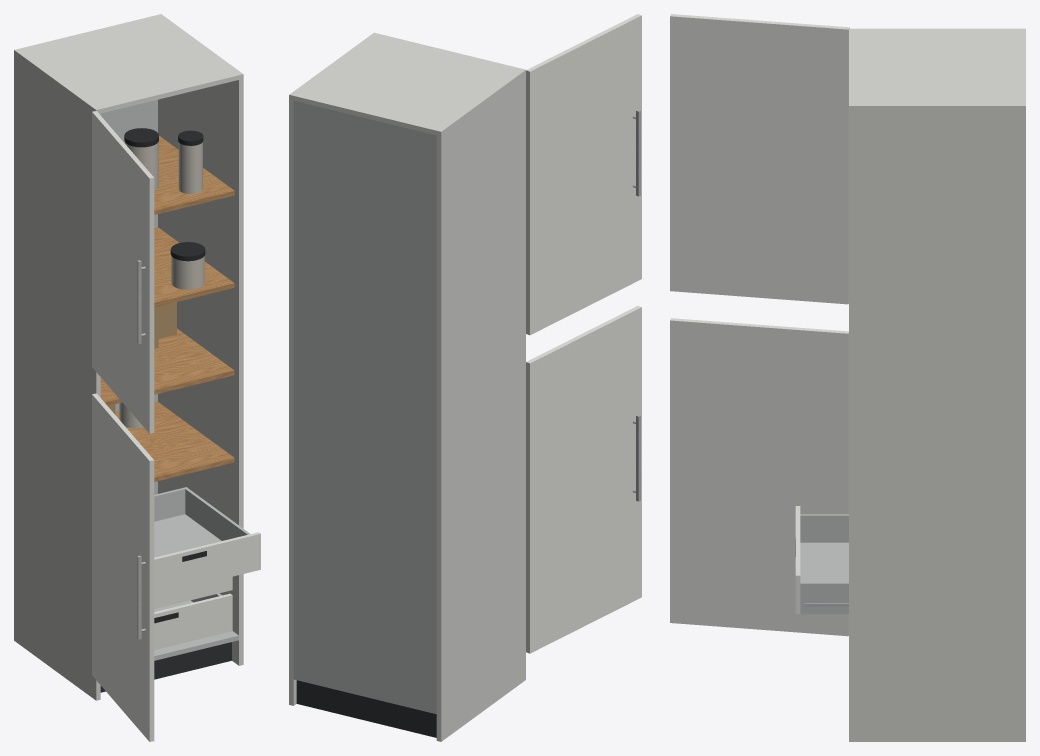
Rendered from tall-cabinet-closed.glb.
The picture shows the model from 3 angles, left to right: view 1: azimuth 30°, elevation 25°; view 2: azimuth 150°, elevation 25°; view 3: azimuth 270°, elevation 25°; orthographic projection. The views are drawn at different scales.
Parts seen in each view (by area): view 1: Larder cabinet - Carcass, white melamine, Door 1 - Doors and fronts, matt white, Larder cabinet - Shelves, light oak-effect, Larder cabinet - Carcass inside, light grey, Larder cabinet - Storage jars and tins, plain, Larder cabinet - Jar lids, dark, Larder cabinet - Recessed plinth, dark grey, Door 1 - Handles, runners and baskets, brushed steel, Larder cabinet - Food boxes, plain kraft; view 2: Larder cabinet - Carcass inside, light grey, Larder cabinet - Carcass, white melamine, Door 1 - Doors and fronts, matt white, Larder cabinet - Recessed plinth, dark grey, Door 1 - Handles, runners and baskets, brushed steel; view 3: Larder cabinet - Carcass, white melamine, Door 1 - Doors and fronts, matt white, Larder cabinet - Carcass inside, light grey.
Boxes of the visible parts, x1,y1,x2,y2 form: Larder cabinet - Carcass, white melamine: (14,14,243,700); Door 1 - Doors and fronts, matt white: (92,111,260,741); Larder cabinet - Shelves, light oak-effect: (100,135,234,481); Larder cabinet - Carcass inside, light grey: (100,99,249,660); Larder cabinet - Storage jars and tins, plain: (119,142,204,428); Larder cabinet - Jar lids, dark: (124,128,206,623); Larder cabinet - Recessed plinth, dark grey: (100,642,231,692); Door 1 - Handles, runners and baskets, brushed steel: (137,260,145,639); Larder cabinet - Food boxes, plain kraft: (108,302,176,414); Larder cabinet - Carcass inside, light grey: (293,101,436,714); Larder cabinet - Carcass, white melamine: (289,32,525,741); Door 1 - Doors and fronts, matt white: (526,14,641,653); Larder cabinet - Recessed plinth, dark grey: (296,680,436,737); Door 1 - Handles, runners and baskets, brushed steel: (632,109,640,501); Larder cabinet - Carcass, white melamine: (849,28,1025,741); Door 1 - Doors and fronts, matt white: (670,14,849,636); Larder cabinet - Carcass inside, light grey: (800,514,848,614).
Bounding box in the file's own units: 0.7407 × 2.3 × 1.17.
9 materials, 2 textured.
